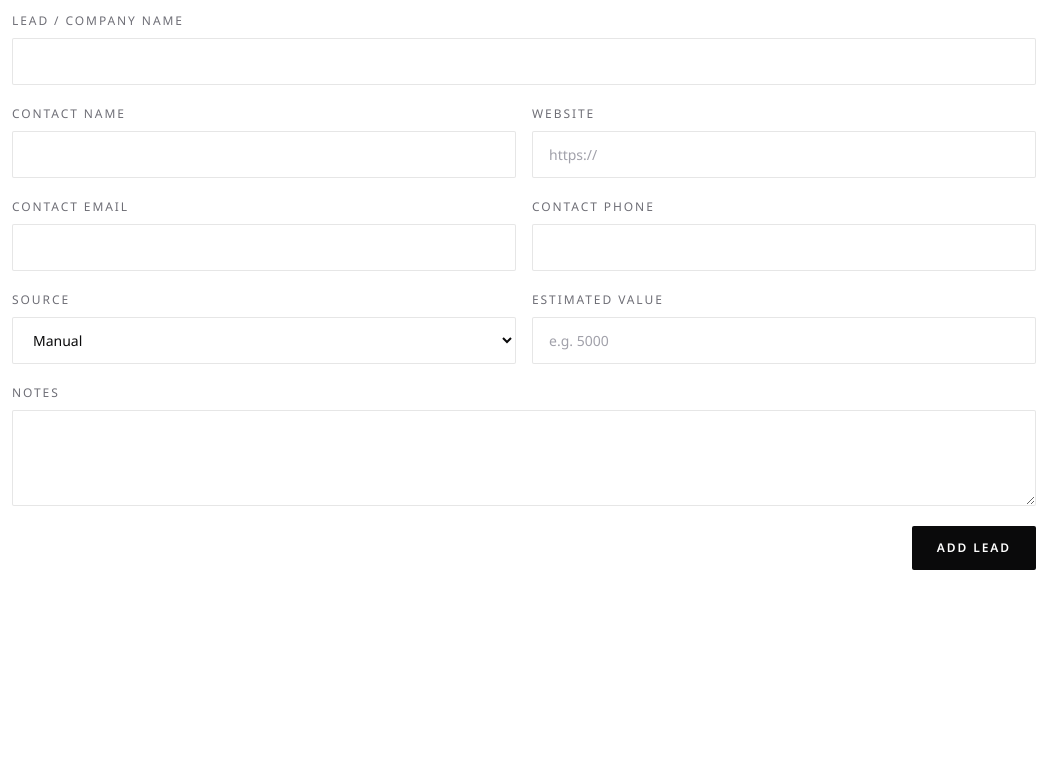
Scenario: LeadForm › surfaces a server error
In the field labelled "Lead / company name": x=524, y=62 [12, 38, 1036, 85], type "Acme"
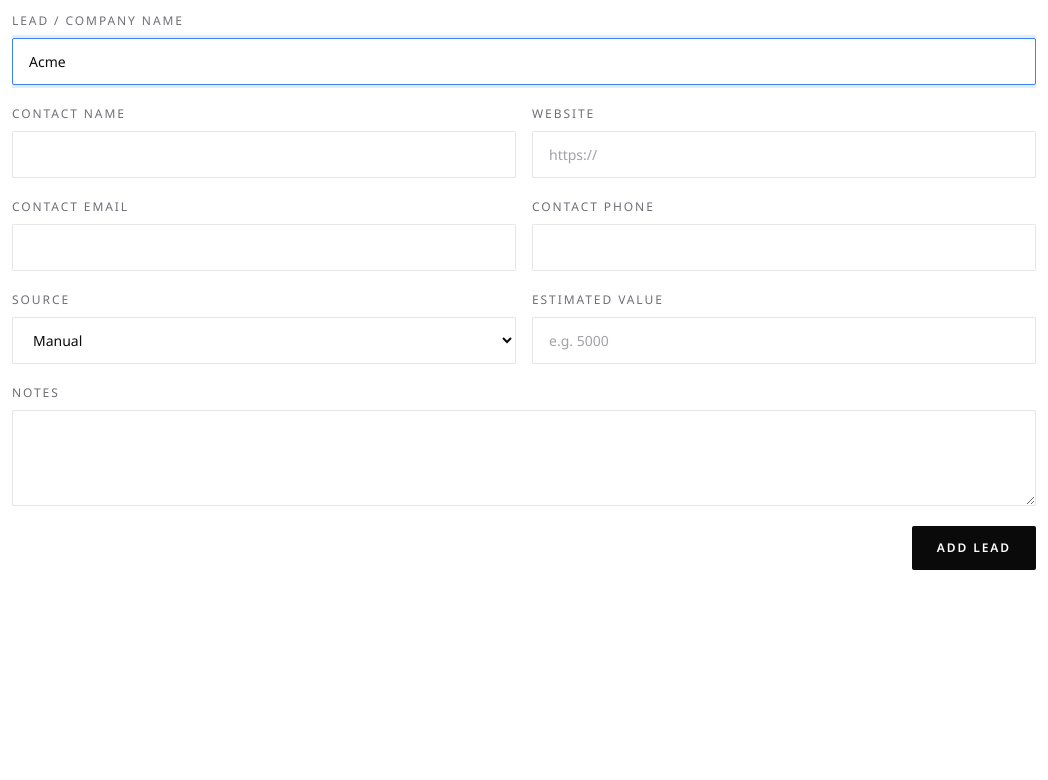
Click the button "Add lead": x=974, y=548 [912, 526, 1036, 570]
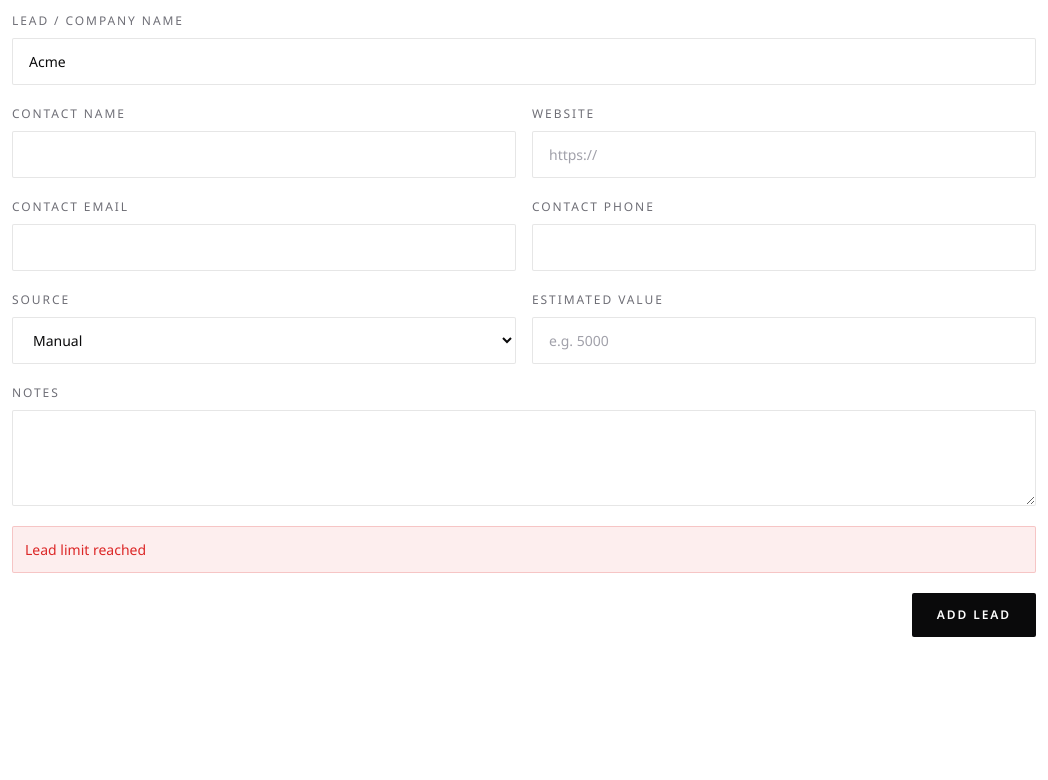
Expected: the text "Lead limit reached" is shown, [12, 526, 1036, 573]
